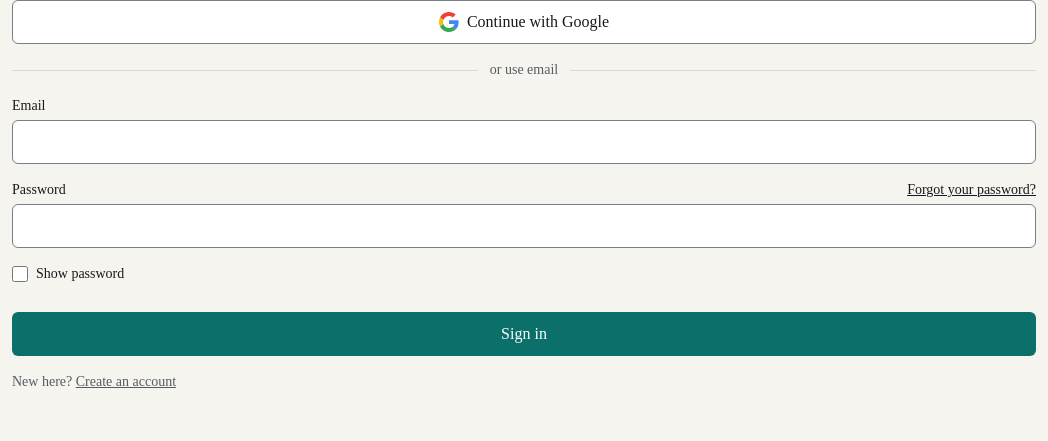
LoginForm › shows one generic message on 401 (G-19)
The width and height of the screenshot is (1048, 441).
Type "ada@example.com" into the field labelled "Email". click: (524, 142)
box: 12,120 -> 1036,164
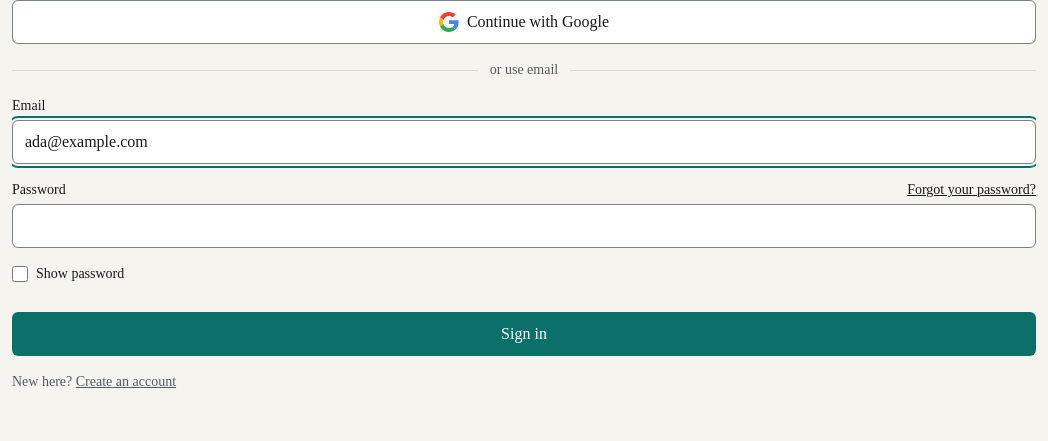
Type "wrong" into the password field labelled "Password". click: (524, 226)
box: 12,204 -> 1036,248
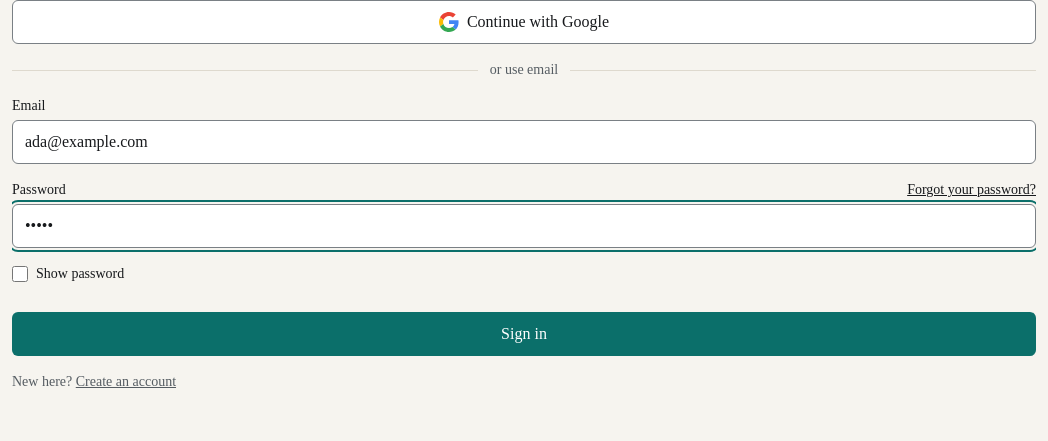
Click the button "Sign in". click: (524, 334)
box: 12,312 -> 1036,356
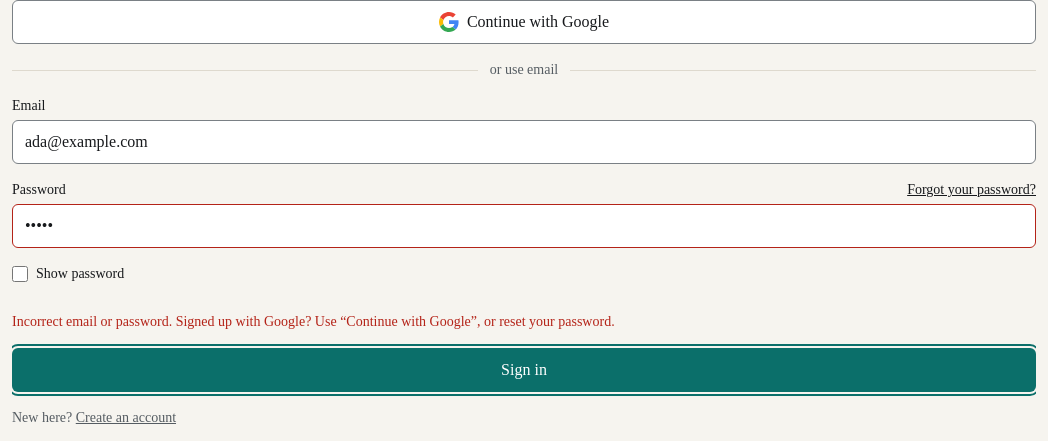
Expected: the message shows "Incorrect email or password", 12,314 -> 615,329
